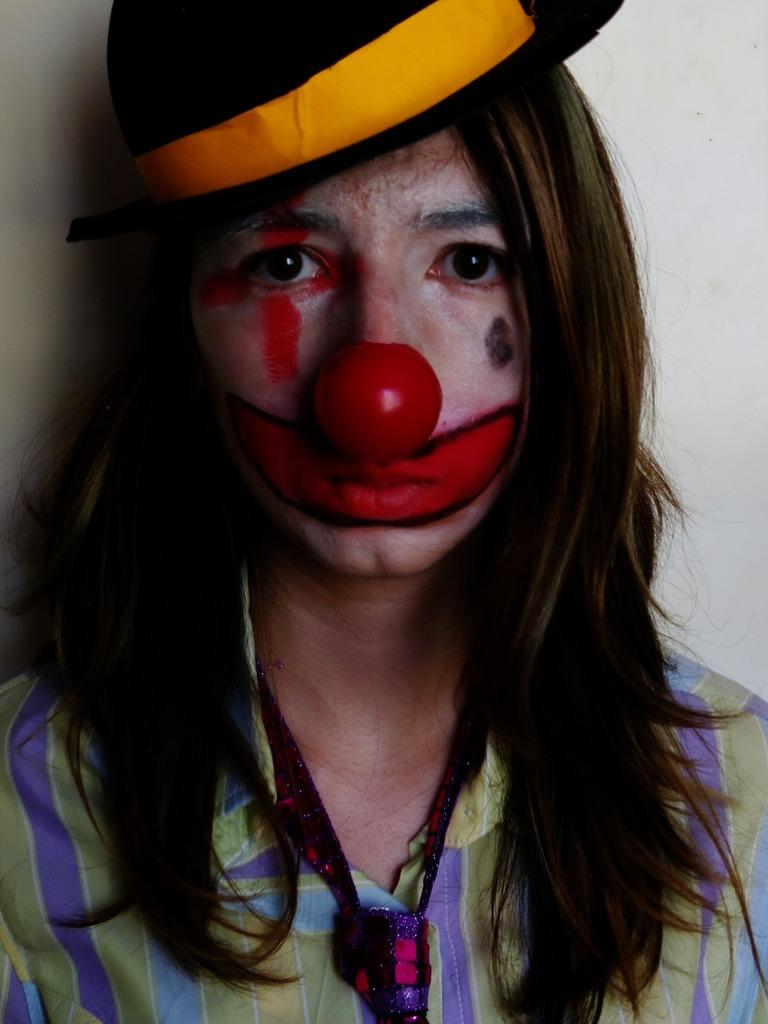Hat: (67, 0, 622, 247)
